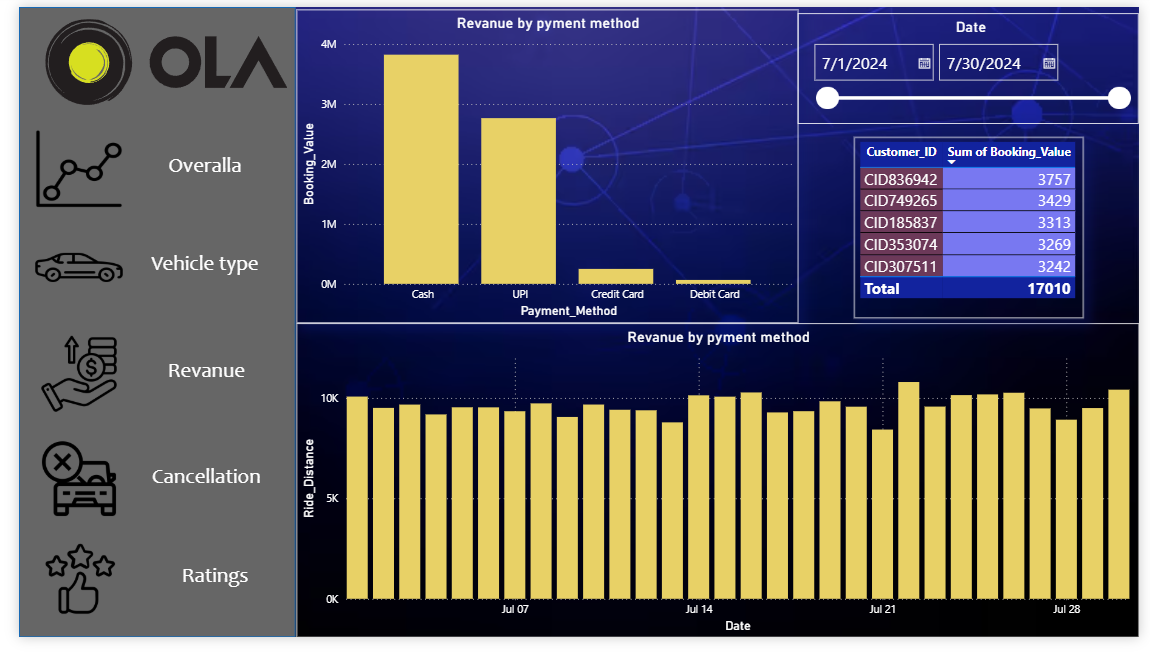

What the dashboard file says about the page in this screenshot:
{"tool":"powerbi","page":{"name":"Revanue","canvas":[1280,720],"ordinal":2},"visuals":[{"type":"shape","box":[0,0,316.1,720.2],"z":0},{"type":"image","box":[10,10,317,107],"z":1000},{"type":"image","box":[18.1,139.9,100.1,89.3],"z":2000},{"type":"textbox","box":[130.3,160.5,165.3,49.5],"z":3000},{"type":"image","box":[18.1,252.1,100.1,89.3],"z":4000},{"type":"image","box":[18.1,374,100.1,89.3],"z":5000},{"type":"image","box":[18.1,494.6,100.1,89.3],"z":6000},{"type":"image","box":[19.3,608,100.1,89.3],"z":7000},{"type":"textbox","box":[130.3,272.7,165.3,49.5],"z":8000},{"type":"textbox","box":[131.5,394.5,165.3,49.5],"z":9000},{"type":"textbox","box":[131.5,515.2,165.3,49.5],"z":10000},{"type":"textbox","box":[141.2,628.6,165.3,49.5],"z":11000},{"type":"actionButton","box":[0,252.5,317,102.9],"z":12000},{"type":"actionButton","box":[0,133.1,317,102.9],"z":13000},{"type":"actionButton","box":[0,360.9,317,102.9],"z":14000},{"type":"actionButton","box":[0,487.1,317,102.9],"z":15000},{"type":"actionButton","box":[0,601,317,102.9],"z":16000},{"type":"clusteredColumnChart","title":"Revanue by pyment method","fields":{"Y":["Sum(Sheet1.Booking_Value)"],"Category":["Sheet1.Payment_Method"]},"box":[317,2.7,573.6,358.1],"z":17000},{"type":"clusteredColumnChart","title":"Revanue by pyment method","fields":{"Category":["Sheet1.Date"],"Y":["Sum(Sheet1.Ride_Distance)"]},"box":[317,360.9,963.3,359.5],"z":18000},{"type":"tableEx","fields":{"Values":["Sheet1.Customer_ID","Sum(Sheet1.Booking_Value)"]},"box":[953.7,148.2,262.1,207.2],"z":19000},{"type":"slicer","title":"Date","fields":{"Values":["Sheet1.Date"]},"box":[890.6,6.9,389.7,126.2],"z":20000}]}

Visuals, with their boxes in screenshot pixels (x1, y1, x2, y2), scaled from the page's 1280x720 canvas onto the 1150x652 screenshot:
shape: {"left": 0, "top": 0, "right": 284, "bottom": 651}
image: {"left": 9, "top": 9, "right": 294, "bottom": 106}
image: {"left": 16, "top": 127, "right": 106, "bottom": 208}
textbox: {"left": 117, "top": 145, "right": 266, "bottom": 190}
image: {"left": 16, "top": 228, "right": 106, "bottom": 309}
image: {"left": 16, "top": 339, "right": 106, "bottom": 420}
image: {"left": 16, "top": 448, "right": 106, "bottom": 529}
image: {"left": 17, "top": 551, "right": 107, "bottom": 631}
textbox: {"left": 117, "top": 247, "right": 266, "bottom": 292}
textbox: {"left": 118, "top": 357, "right": 267, "bottom": 402}
textbox: {"left": 118, "top": 467, "right": 267, "bottom": 511}
textbox: {"left": 127, "top": 569, "right": 275, "bottom": 614}
actionButton: {"left": 0, "top": 229, "right": 285, "bottom": 322}
actionButton: {"left": 0, "top": 121, "right": 285, "bottom": 214}
actionButton: {"left": 0, "top": 327, "right": 285, "bottom": 420}
actionButton: {"left": 0, "top": 441, "right": 285, "bottom": 534}
actionButton: {"left": 0, "top": 544, "right": 285, "bottom": 637}
"Revanue by pyment method" clusteredColumnChart: {"left": 285, "top": 2, "right": 800, "bottom": 327}
"Revanue by pyment method" clusteredColumnChart: {"left": 285, "top": 327, "right": 1149, "bottom": 651}
tableEx - Sheet1.Customer_ID x Sum(Sheet1.Booking_Value): {"left": 857, "top": 134, "right": 1092, "bottom": 322}
"Date" slicer: {"left": 800, "top": 6, "right": 1149, "bottom": 121}
